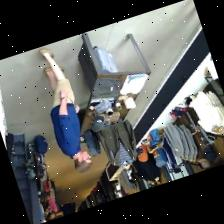person: (40, 48, 91, 172), (51, 177, 63, 218), (48, 181, 57, 219)
